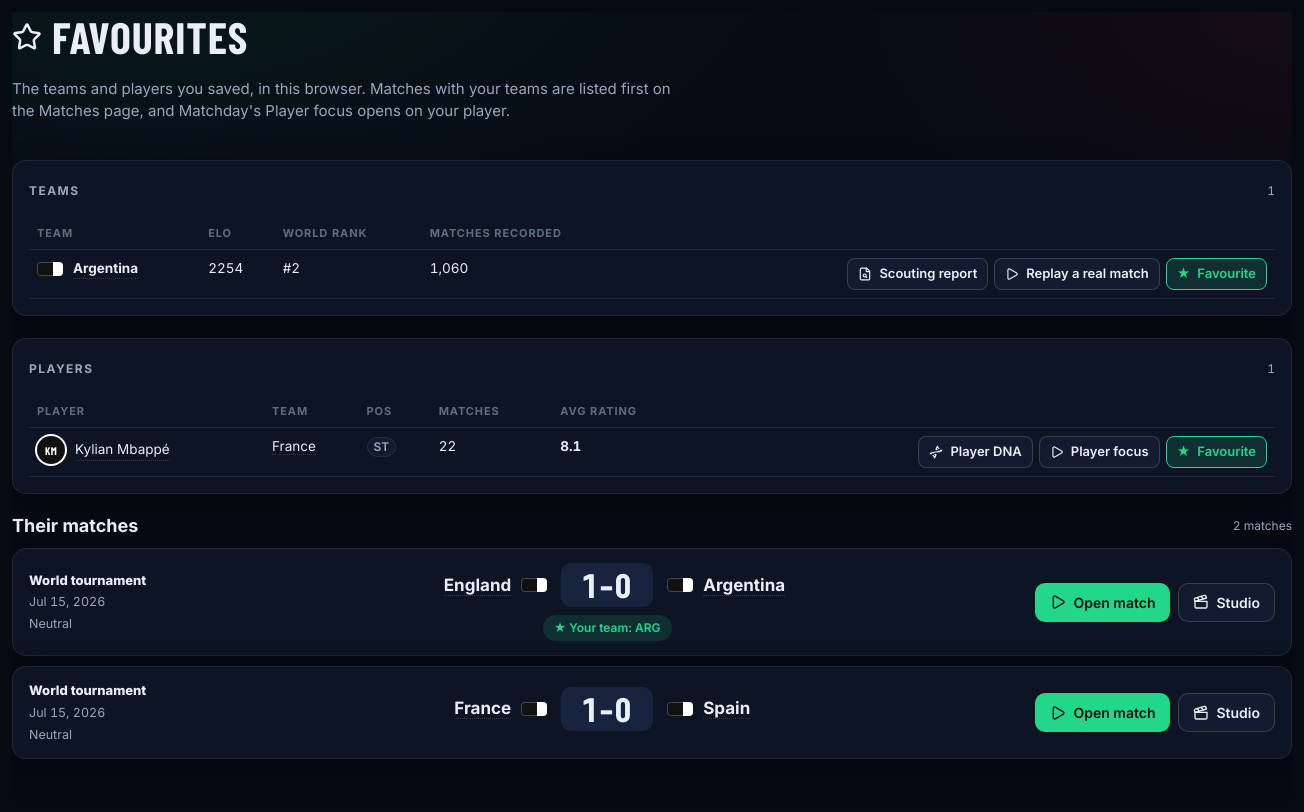
Favourites › lists saved teams and players with their matches, and removes one
This screenshot has width=1304, height=812.
expect the link "Argentina" next to "2254" is shown: met, box [73,258,138,279]
expect the text "Kylian Mbappé" is shown: met, box [75,442,170,458]
Click the button "★ Favourite" next to "Replay a real match": click(1216, 274) [1166,258,1267,290]
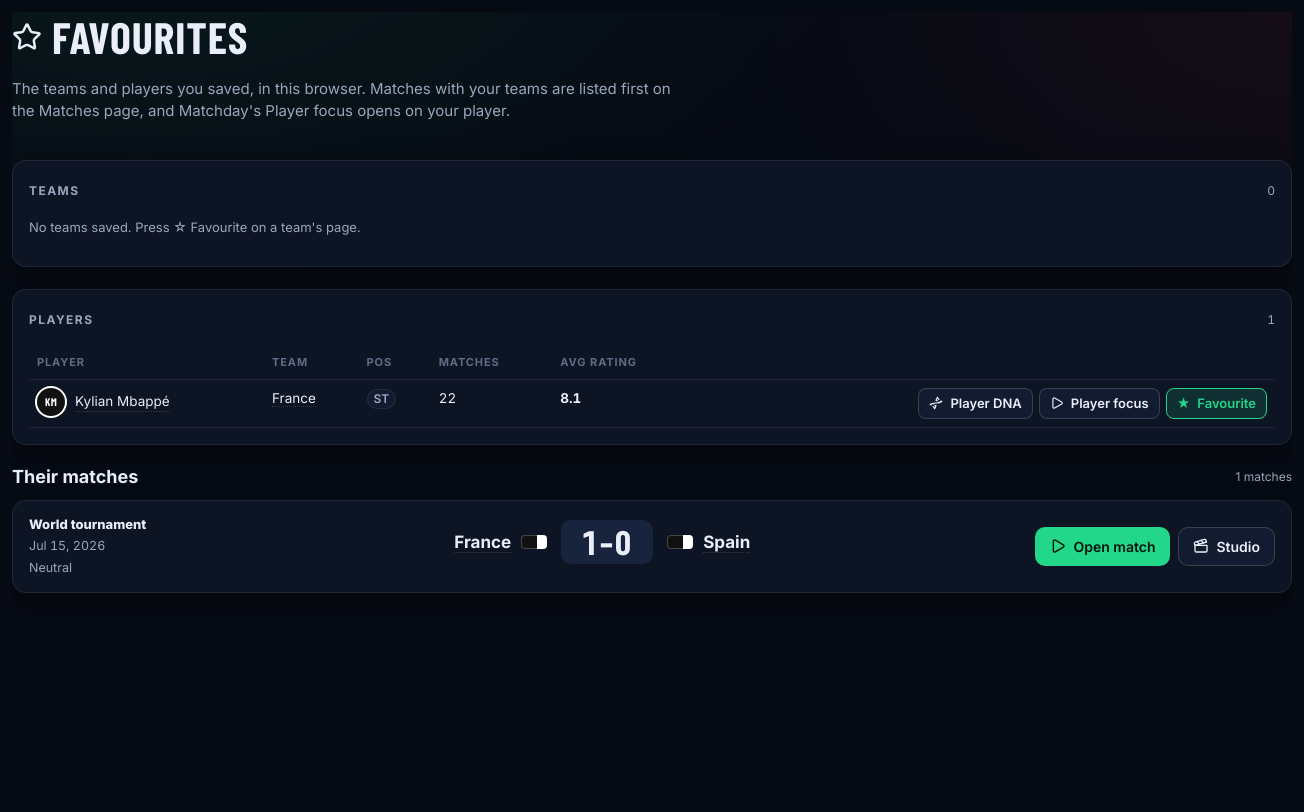
expect the text "No teams saved. Press ☆ Favourite on a team's page." is shown: met, box [29,219,361,235]
